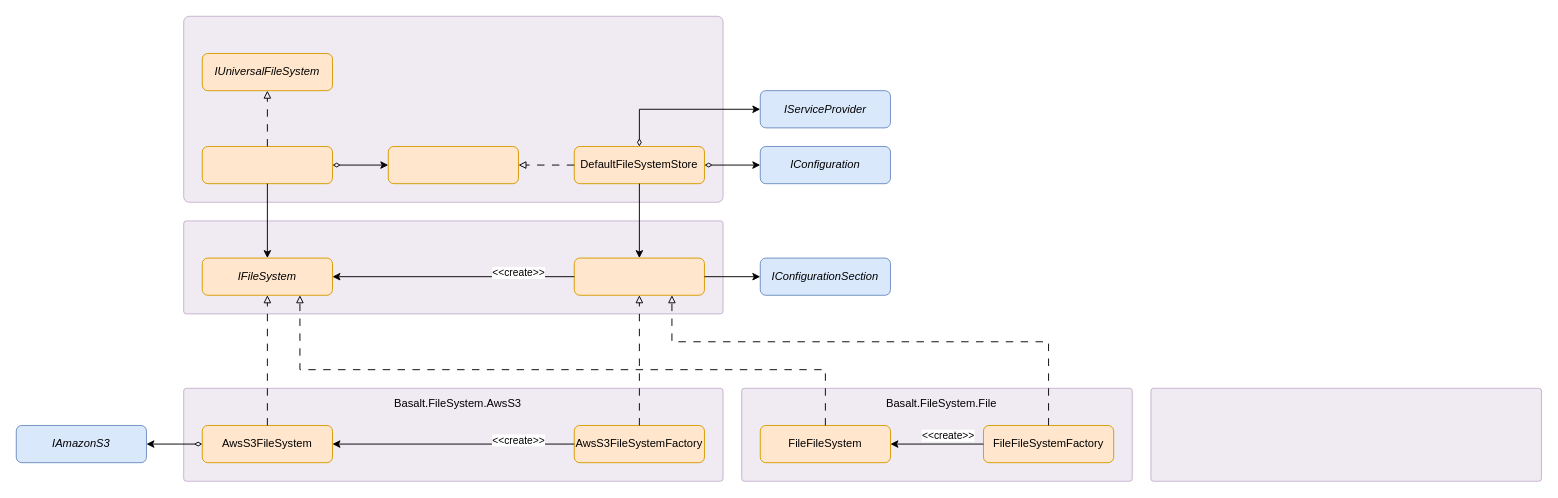
The diagram is 1558 pixels wide and 498 high, and some of its shapes have lost their labels. The box of each missing label's shape, as (x1, y1, x2, y2) in pixels:
Basalt.FileSystem: (183, 15, 723, 202)
Basalt.FileSystem.Core: (183, 220, 723, 314)
Basalt.FileSystem.XXX Other implementations: (1150, 387, 1541, 481)
IFileSystemFactory: (573, 257, 704, 295)
IFileSystemStore: (387, 146, 518, 184)
UniversalFileSystem: (201, 146, 332, 184)
